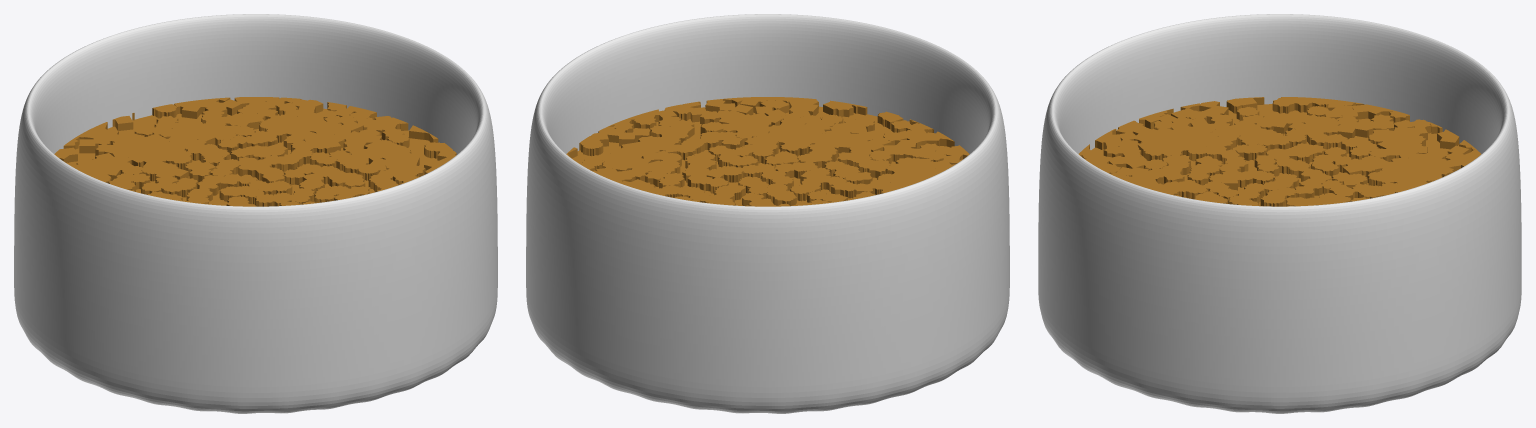
The model's file is cat eat ver2 in food1-1.fbx.
3 views of the same model, side by side, from view 1: azimuth 30°, elevation 25°; view 2: azimuth 150°, elevation 25°; view 3: azimuth 270°, elevation 25° (orthographic).
Parts seen in each view (by area): view 1: 円, 円.001; view 2: 円, 円.001; view 3: 円, 円.001.
Boxes of the visible parts, x1=… form: 円: x1=14, y1=14, x2=497, y2=413; 円.001: x1=69, y1=108, x2=437, y2=205; 円: x1=526, y1=14, x2=1009, y2=413; 円.001: x1=572, y1=106, x2=950, y2=202; 円: x1=1038, y1=14, x2=1521, y2=413; 円.001: x1=1091, y1=104, x2=1458, y2=206.
Bounding box in the file's own units: 199 × 97.39 × 199.
